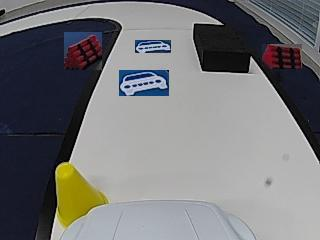block: (193, 22, 250, 73)
cone: (56, 162, 108, 204)
